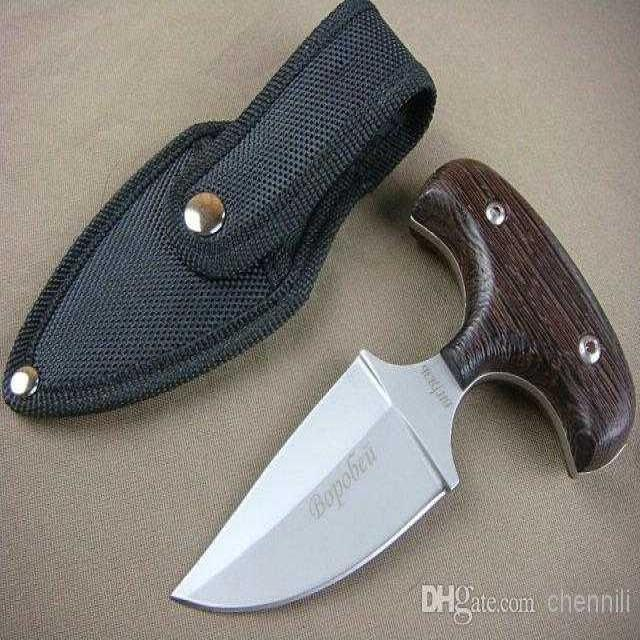Knife: (167, 154, 640, 619)
